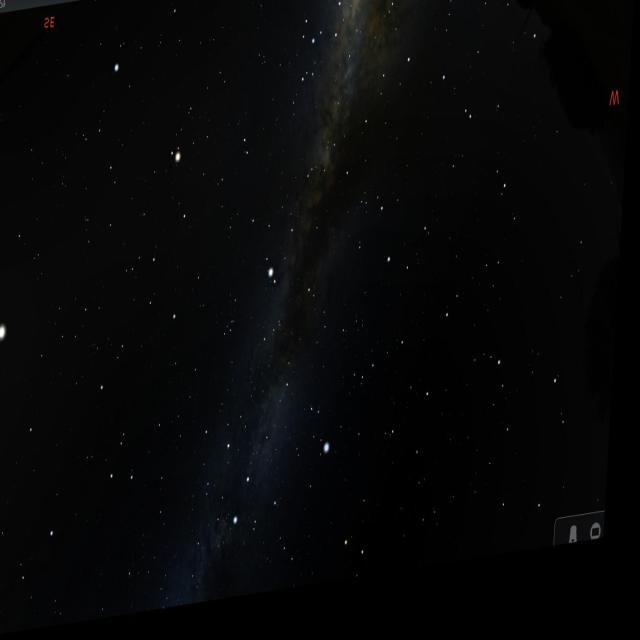aquila: (250, 162, 330, 297)
cygnus: (224, 362, 302, 544)
lyra: (303, 398, 343, 483)
sagittarius: (300, 0, 368, 90)
